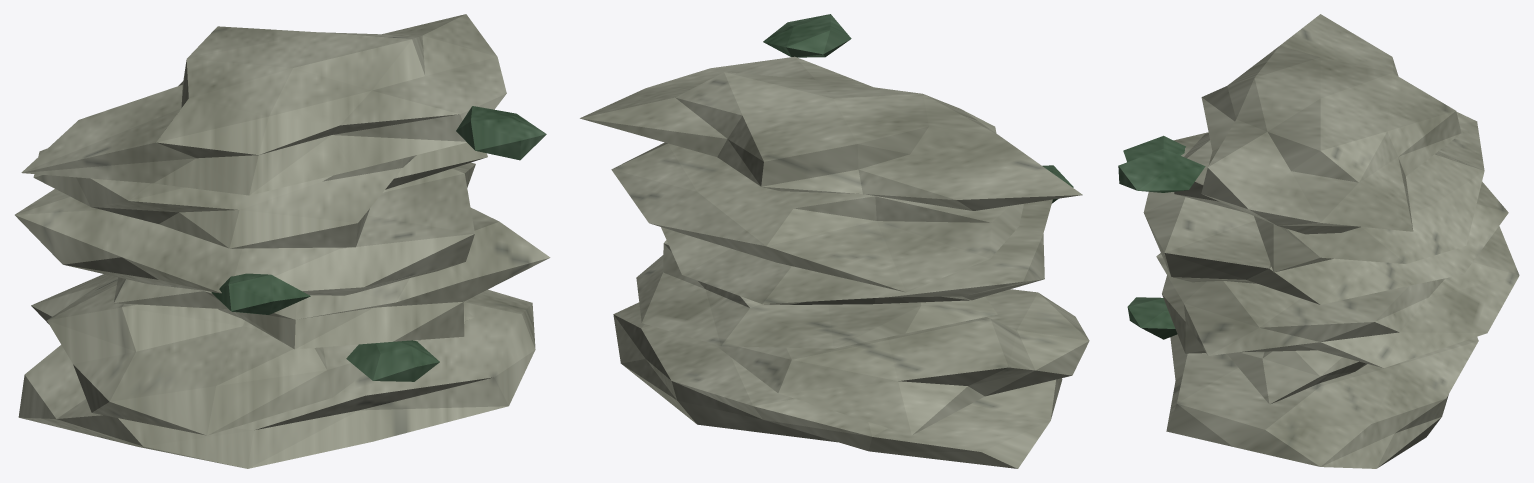
The model's file is 0032_layered_rock_07.glb.
3 renders of one model, left to right at view 1: azimuth 30°, elevation 25°; view 2: azimuth 150°, elevation 25°; view 3: azimuth 270°, elevation 25°, orthographic. The views are drawn at different scales.
Parts seen in each view (by area): view 1: stone_light, moss; view 2: stone_light, moss; view 3: stone_light, moss.
Part boxes in pixels (x1,y1,x2,y2): stone_light: (15, 14, 550, 468); moss: (211, 106, 546, 381); stone_light: (580, 56, 1089, 468); moss: (763, 14, 1073, 203); stone_light: (1143, 14, 1519, 468); moss: (1118, 135, 1205, 339).
Size of the model in its own units: 2.13 by 1.33 by 1.61.
2 materials, 2 textured.
